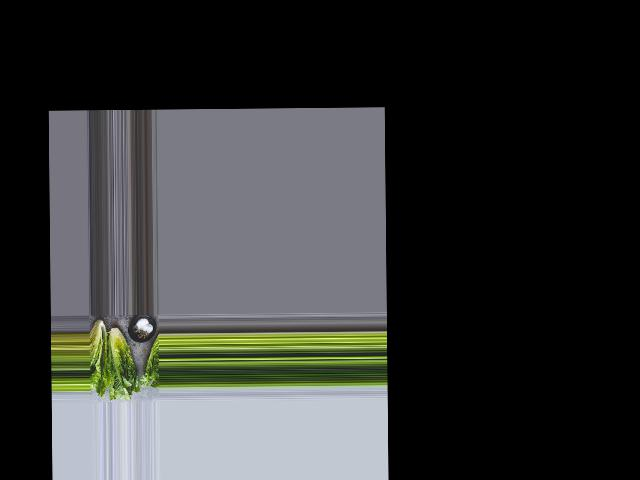lettuce: (89, 315, 110, 391)
